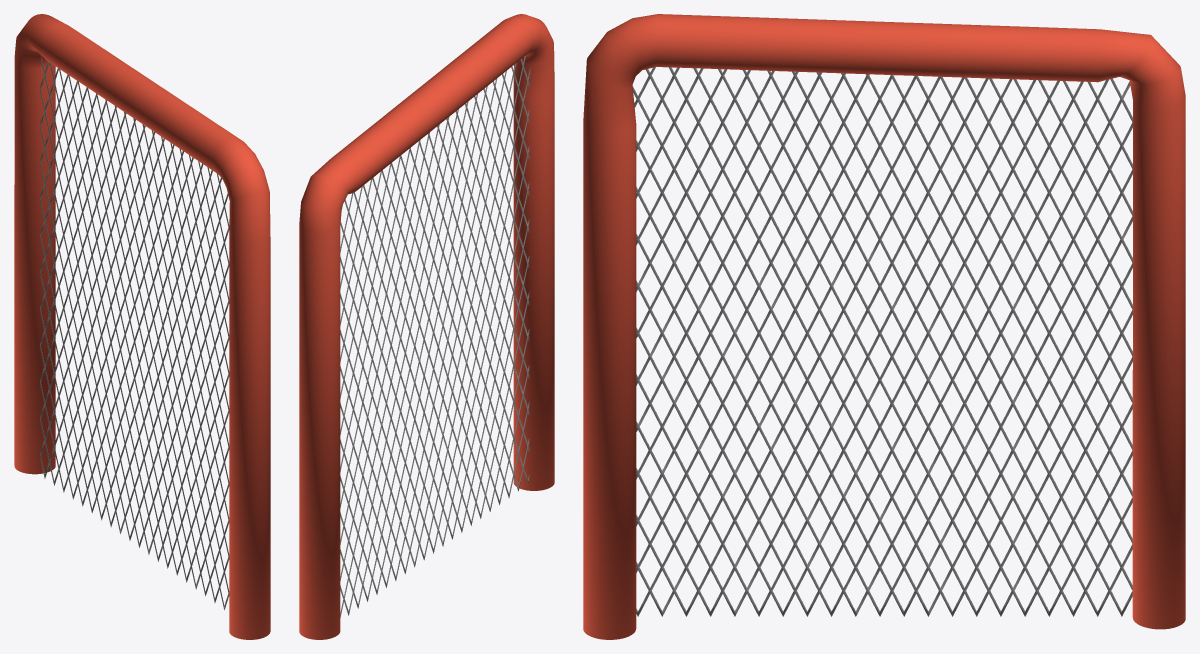
The model's file is malla.fbx.
3 views of the same model, side by side, from view 1: azimuth 30°, elevation 25°; view 2: azimuth 150°, elevation 25°; view 3: azimuth 270°, elevation 25° (orthographic). The views are drawn at different scales.
Parts seen in each view (by area): view 1: Cylinder; view 2: Cylinder; view 3: Cylinder.
Boxes of the visible parts, x1,y1,x2,y2 form: Cylinder: [14, 14, 270, 639]; Cylinder: [299, 14, 554, 639]; Cylinder: [583, 14, 1185, 639].
Size of the model in its own units: 50.95 by 649 by 579.
